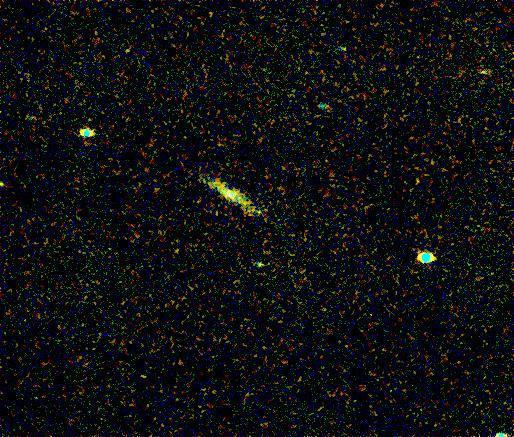star: (464, 57, 494, 87)
